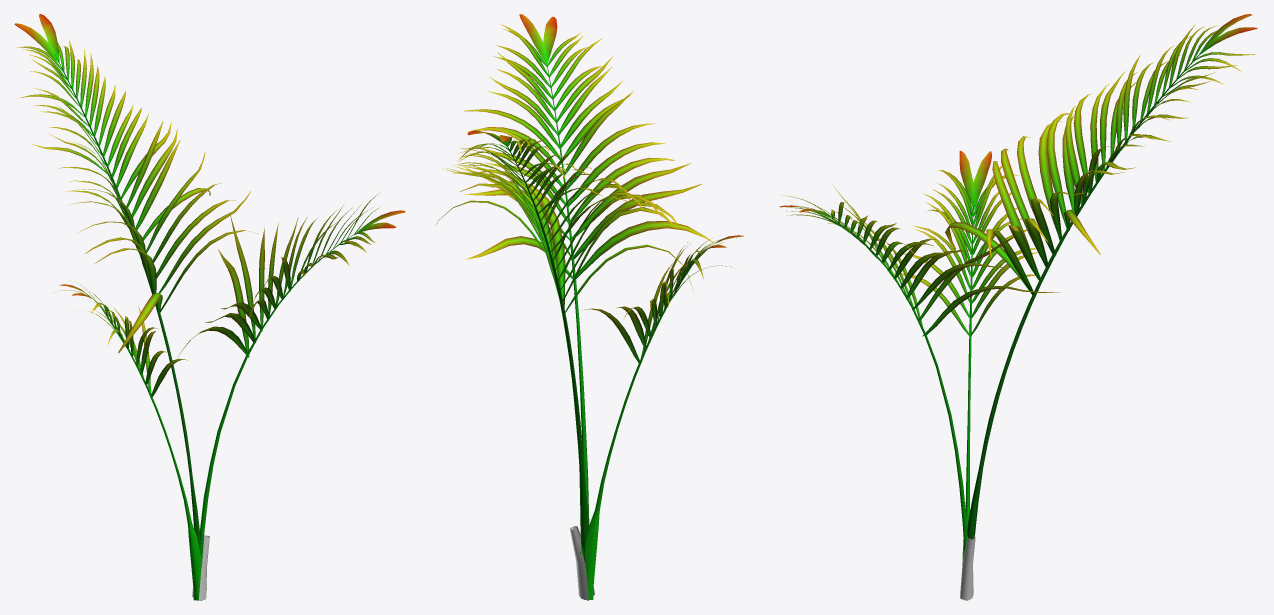
File: Alexandra Palm_LOD2_Var2_ukgkcilia.fbx
3 views of the same model, side by side, from view 1: azimuth 30°, elevation 25°; view 2: azimuth 150°, elevation 25°; view 3: azimuth 270°, elevation 25° (orthographic). The views are drawn at different scales.
Visible parts, largest first — view 1: _ia20_Var2_LOD2; view 2: _ia20_Var2_LOD2; view 3: _ia20_Var2_LOD2.
Boxes of the visible parts, left/top/right/bottom form: _ia20_Var2_LOD2: left=14, top=14, right=405, bottom=600; _ia20_Var2_LOD2: left=435, top=14, right=743, bottom=600; _ia20_Var2_LOD2: left=779, top=14, right=1257, bottom=600.
Size of the model in its own units: 41.69 by 75.15 by 59.6.
